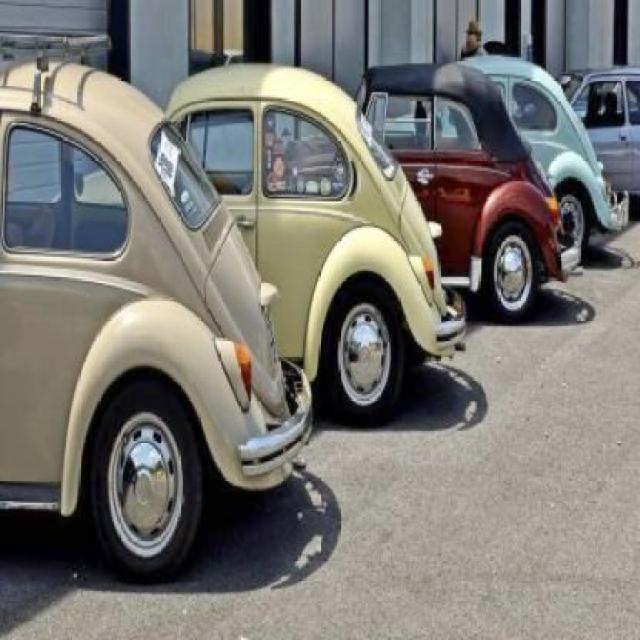car: (0, 56, 292, 556), (130, 79, 447, 420), (341, 70, 554, 319), (433, 44, 598, 241)
